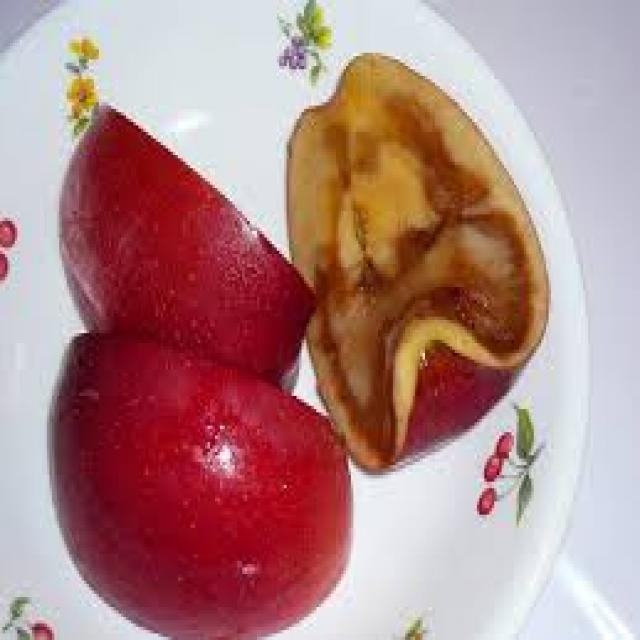organic waste: (282, 49, 546, 468), (44, 330, 351, 637), (57, 99, 311, 389)
